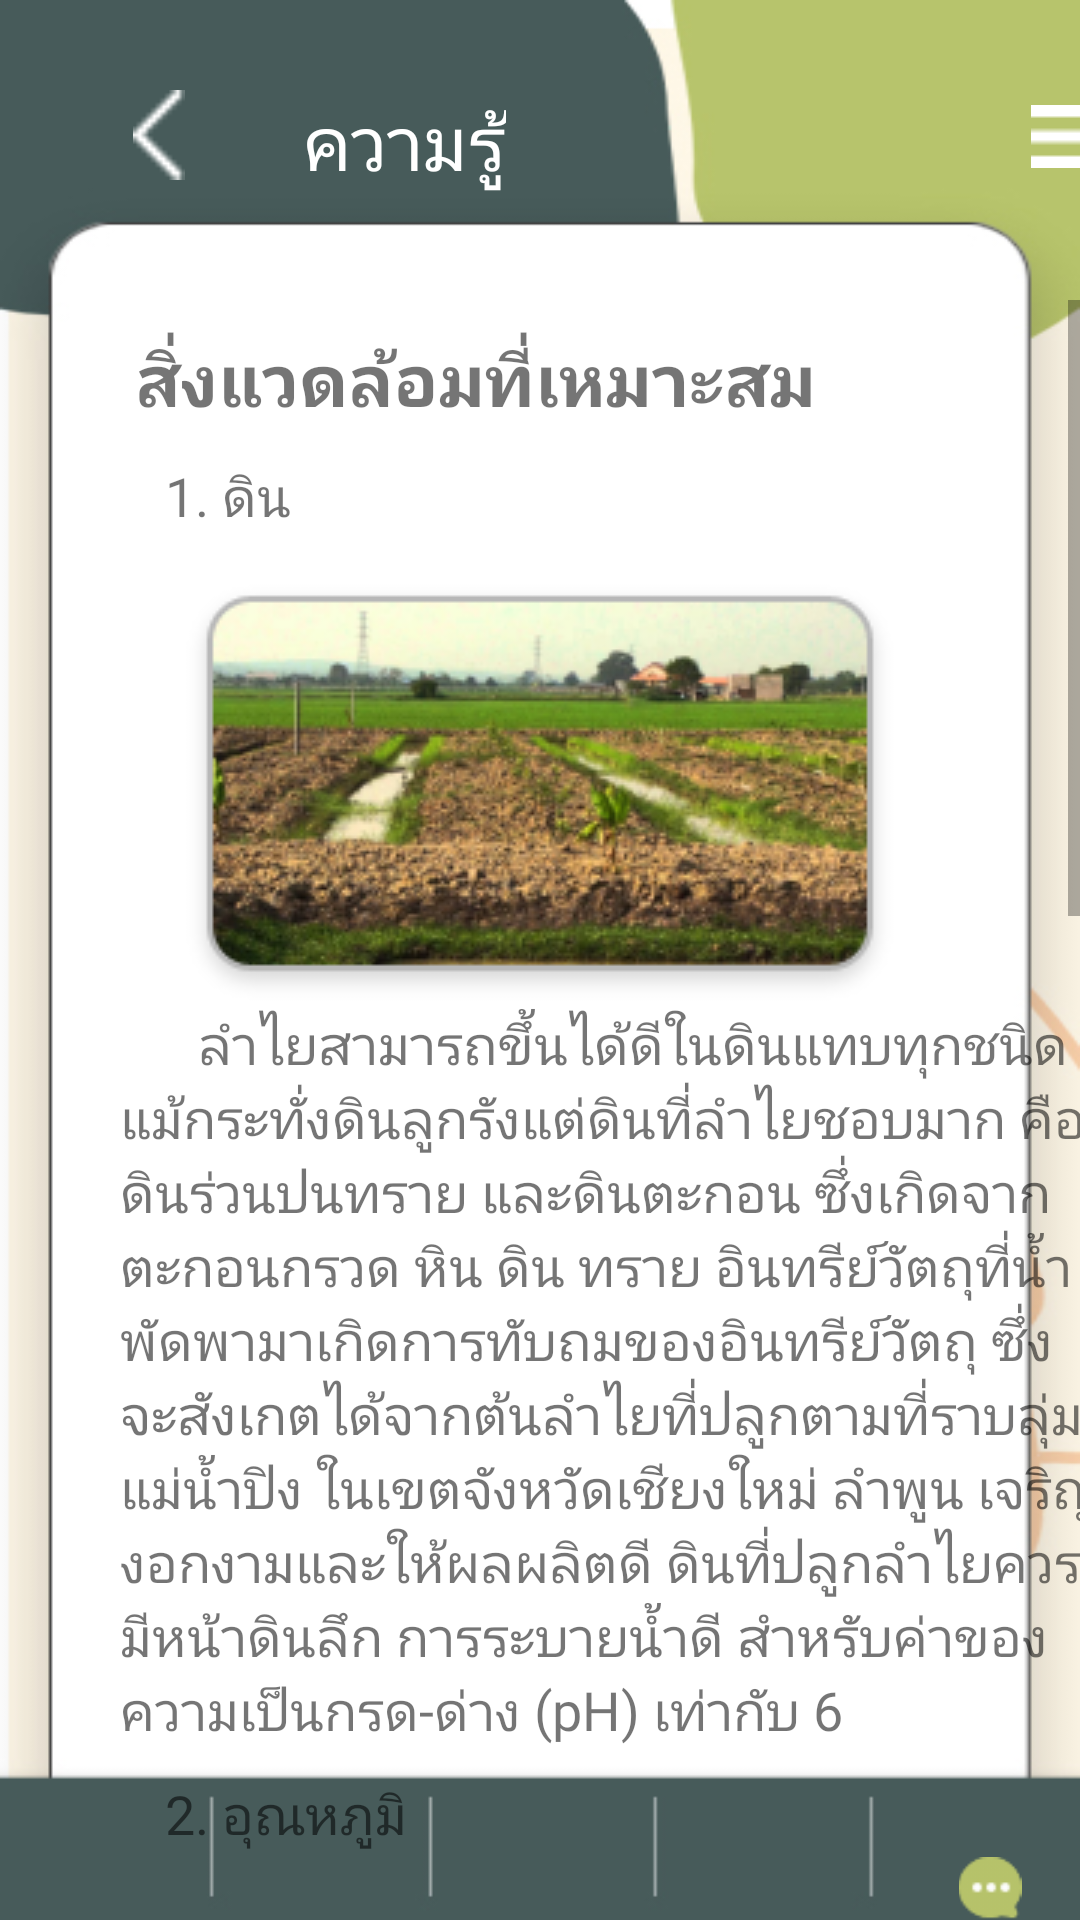

Named icons in this screenshot (1080 x 1920) and their centers, point (x, y):
menusymbol: point (1055, 136)
